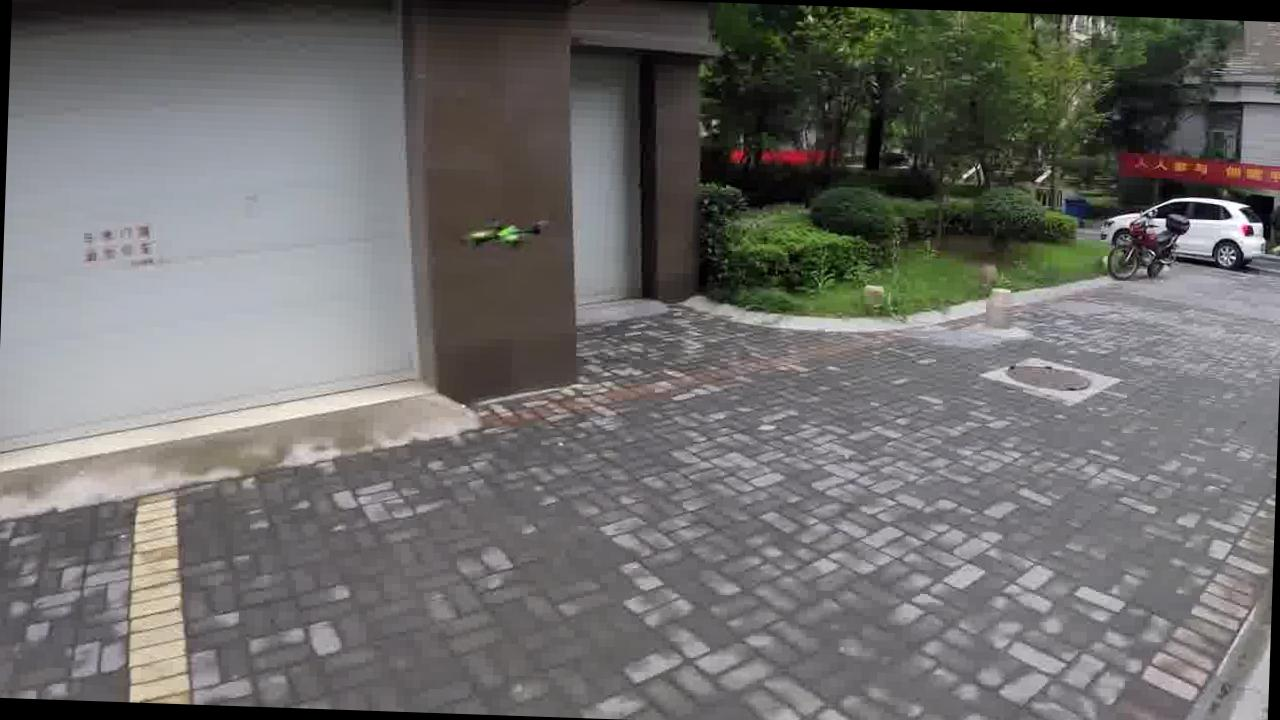drone: (468, 207, 558, 255)
